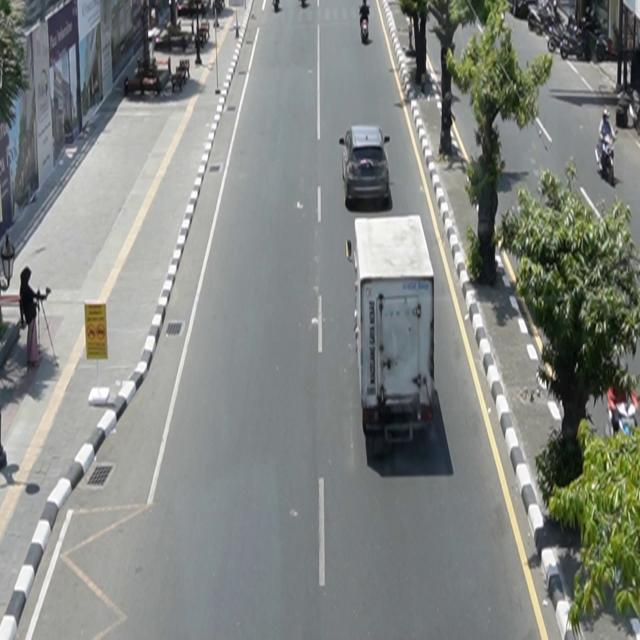car: (339, 125, 392, 207)
truck: (346, 215, 437, 461)
